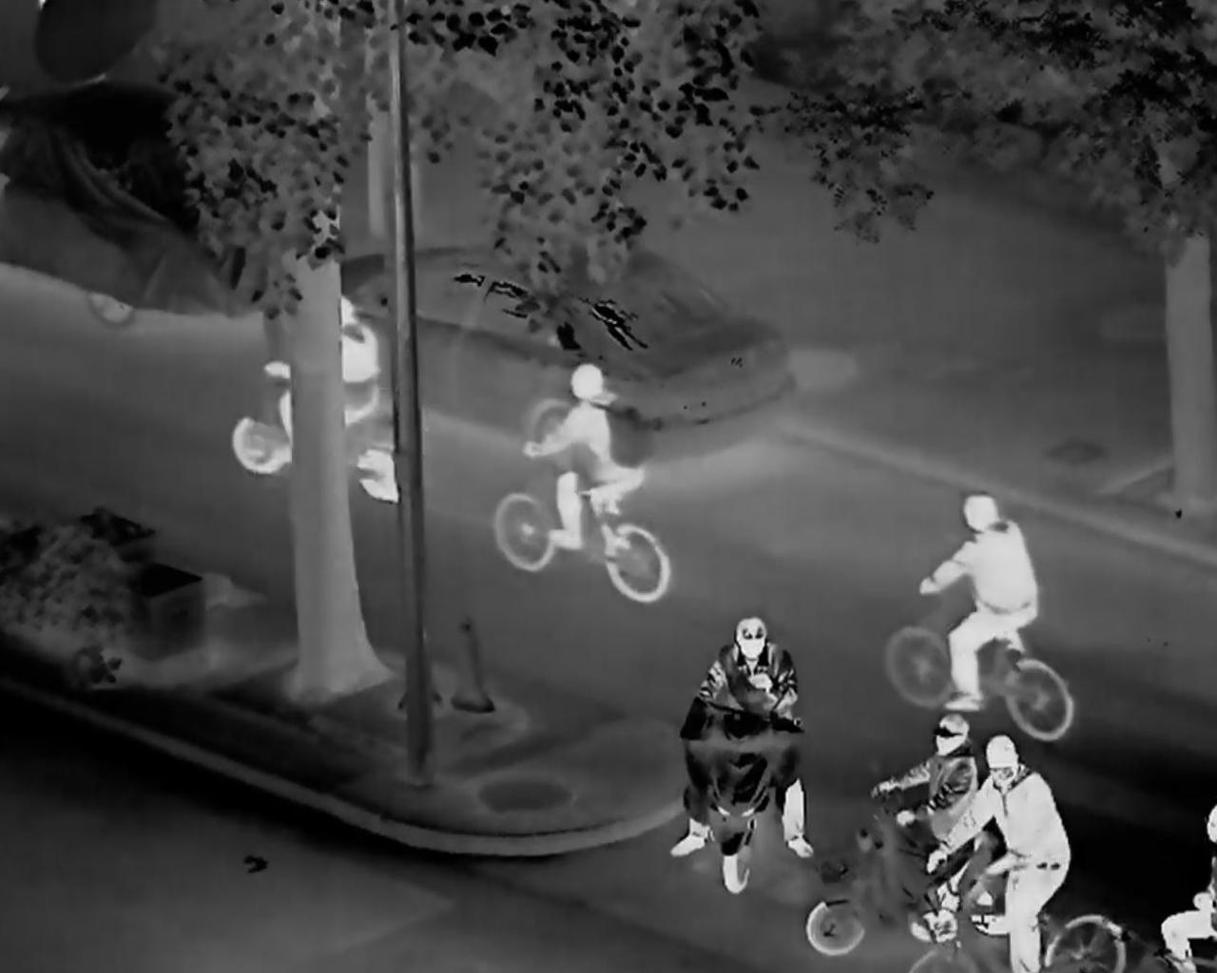person: (688, 598, 819, 914), (916, 484, 1058, 735), (931, 735, 1073, 973), (532, 360, 663, 591), (865, 708, 990, 920), (277, 293, 388, 462)
